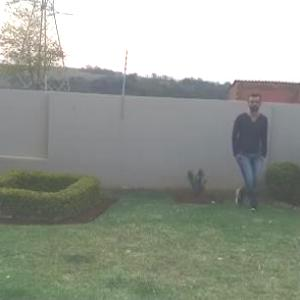follow: (222, 94, 270, 203)
